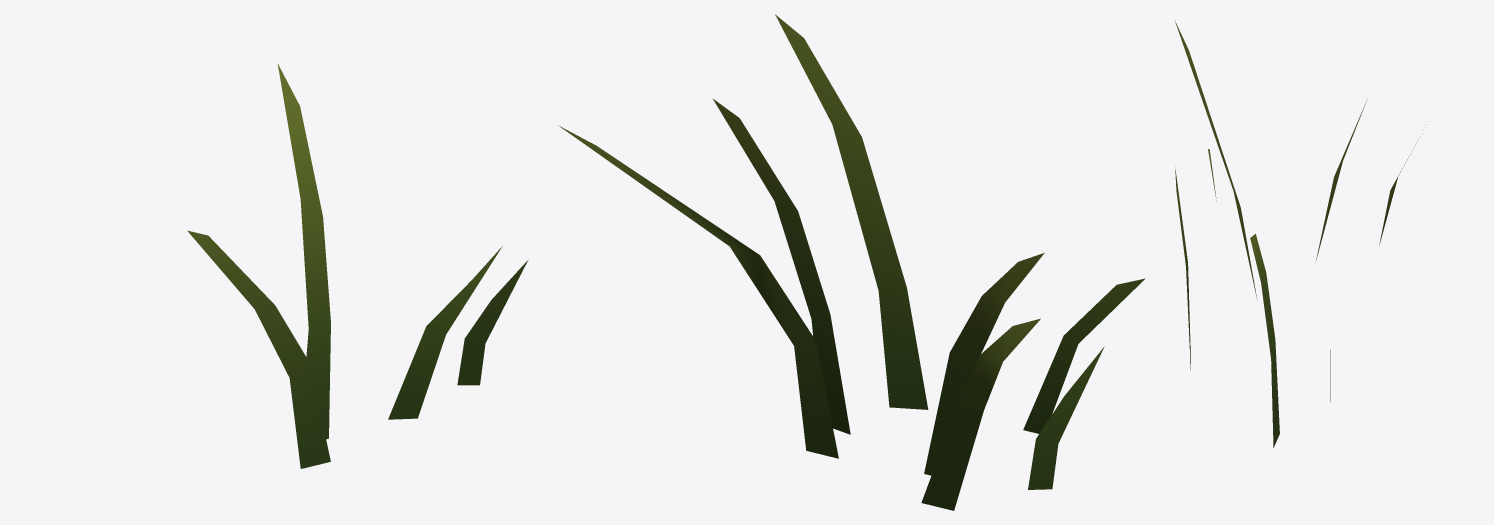
Rendered from Grass2.glb.
The picture shows the model from 3 angles, left to right: view 1: azimuth 30°, elevation 25°; view 2: azimuth 150°, elevation 25°; view 3: azimuth 270°, elevation 25°; orthographic projection. The views are drawn at different scales.
Parts seen in each view (by area): view 1: Grass_Small; view 2: Grass_Small; view 3: Grass_Small.
Part boxes in pixels (left/top/right/bottom): Grass_Small: left=187, top=63, right=528, bottom=468; Grass_Small: left=558, top=14, right=1145, bottom=510; Grass_Small: left=1175, top=21, right=1425, bottom=447.
Size of the model in its own units: 0.235 by 0.1971 by 0.1388.
1 material, 1 textured.
